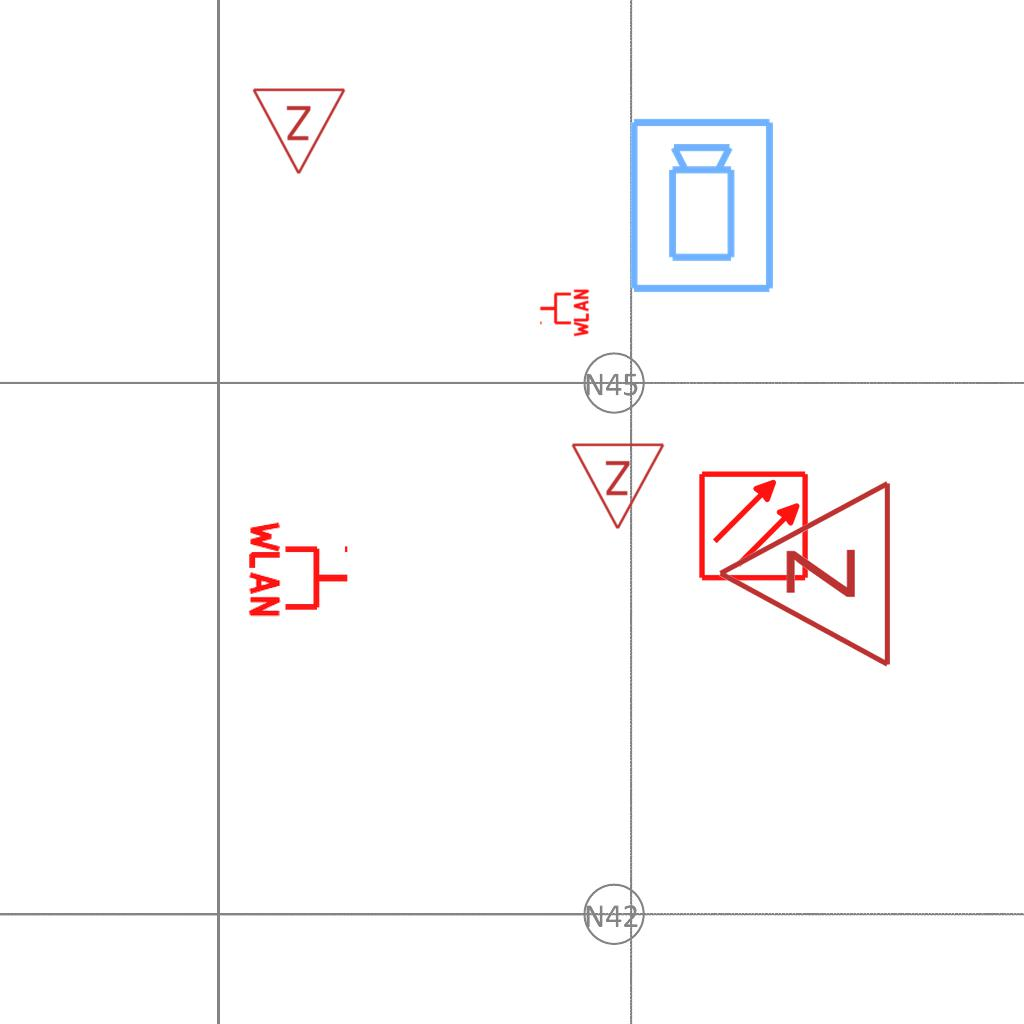KFO_Kamera_mit_Festobjektiv: (626, 115, 780, 297)
RMO_Rauchmelder_optischer: (697, 469, 810, 582)
WLAN: (247, 517, 352, 621), (538, 287, 590, 339)
Zimmersignalleuchte: (705, 478, 905, 674), (251, 81, 349, 181), (570, 436, 668, 536)
